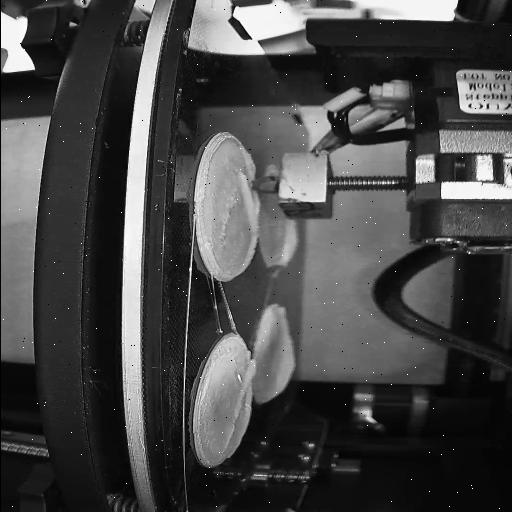over_extrusion: (221, 358, 260, 450), (206, 234, 260, 278), (272, 304, 296, 398), (233, 152, 261, 230), (268, 219, 298, 269)
